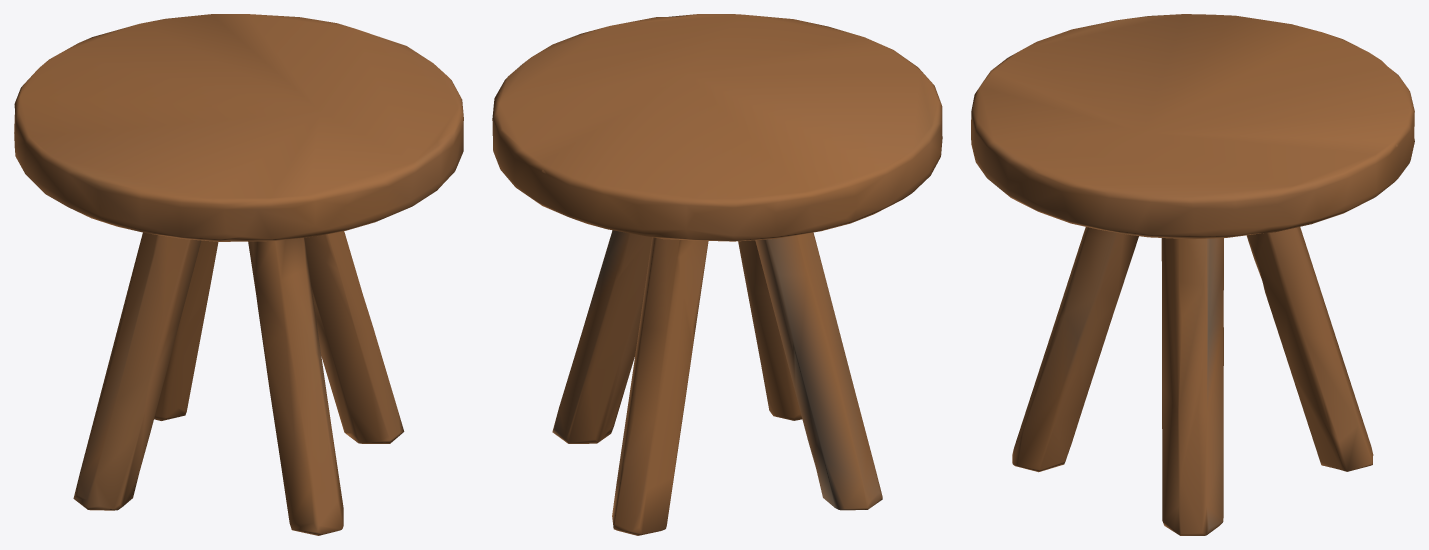
File: gen3d-side-table-lod1.glb
3 views of the same model, side by side, from view 1: azimuth 30°, elevation 25°; view 2: azimuth 150°, elevation 25°; view 3: azimuth 270°, elevation 25° (orthographic).
Visible parts, largest first — view 1: part_0; view 2: part_0; view 3: part_0.
Boxes of the visible parts, bbox=[...] form: part_0: bbox=[14, 14, 463, 535]; part_0: bbox=[492, 14, 942, 535]; part_0: bbox=[971, 14, 1414, 535].
Bounding box in the file's own units: 1.13 × 1 × 1.13.
